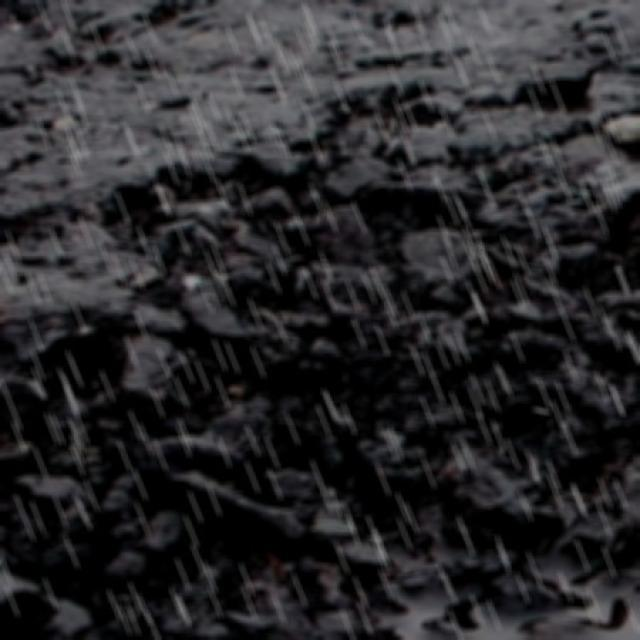road-pothole: (0, 49, 639, 639)
